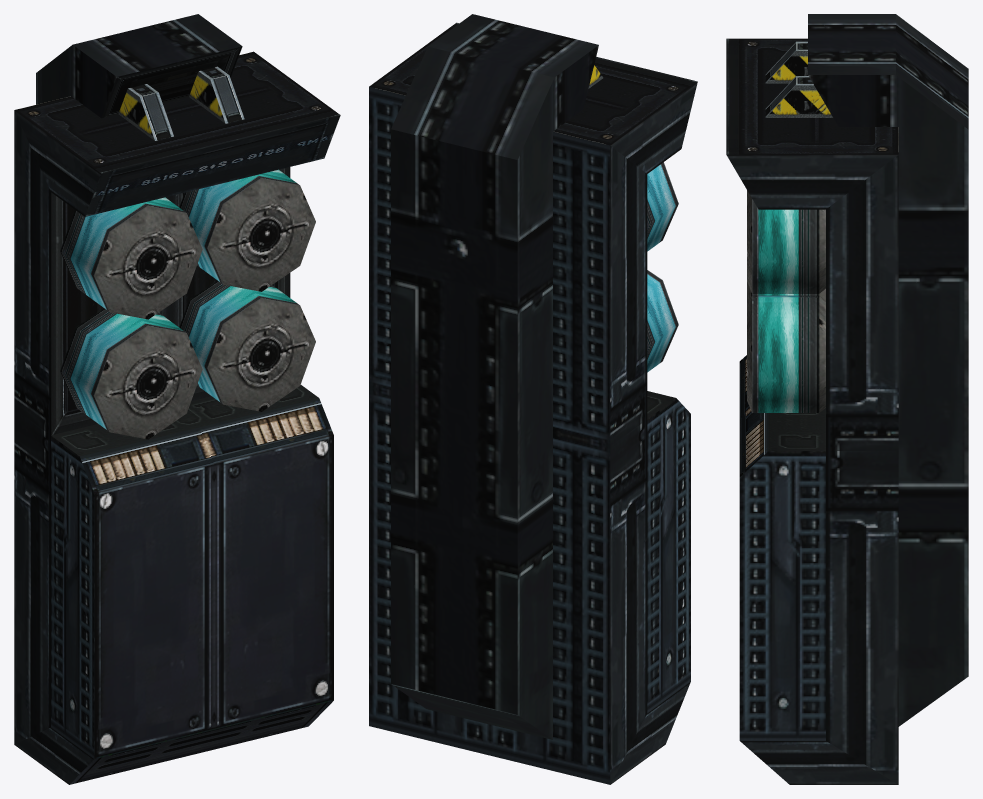
File: Battery_large_07.FBX
3 views of the same model, side by side, from view 1: azimuth 30°, elevation 25°; view 2: azimuth 150°, elevation 25°; view 3: azimuth 270°, elevation 25° (orthographic).
Parts seen in each view (by area): view 1: Battery_large_07, Liquid; view 2: Battery_large_07, Liquid; view 3: Battery_large_07, Liquid.
Boxes of the visible parts, box(x1,y1,x2,y2) form: Battery_large_07: box(14, 14, 340, 784); Liquid: box(70, 169, 296, 429); Battery_large_07: box(369, 14, 697, 784); Liquid: box(647, 164, 675, 372); Battery_large_07: box(726, 14, 968, 784); Liquid: box(758, 209, 799, 412).
Size of the model in its own units: 141 by 386 by 124.
